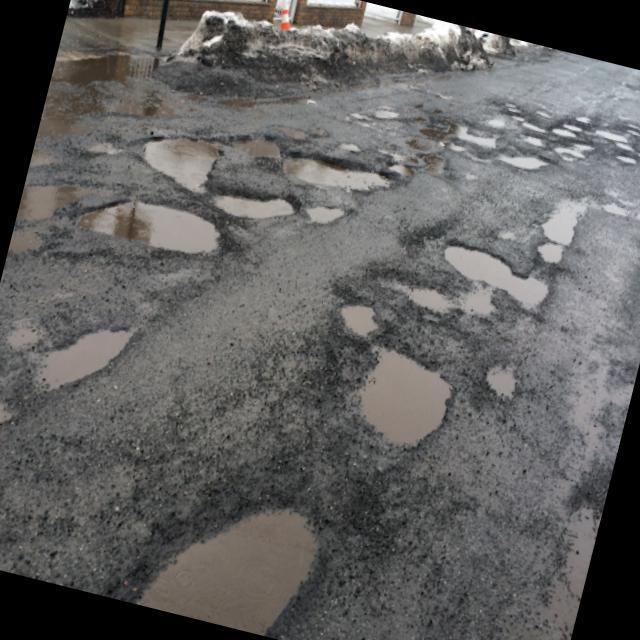Pothole: (123, 467, 324, 640), (73, 171, 241, 277), (348, 338, 465, 461), (433, 225, 558, 318), (43, 298, 140, 410), (276, 143, 393, 205), (138, 118, 226, 190), (216, 180, 303, 233), (532, 182, 590, 254), (334, 289, 384, 341), (224, 122, 280, 166), (483, 350, 525, 402), (501, 144, 554, 182)
